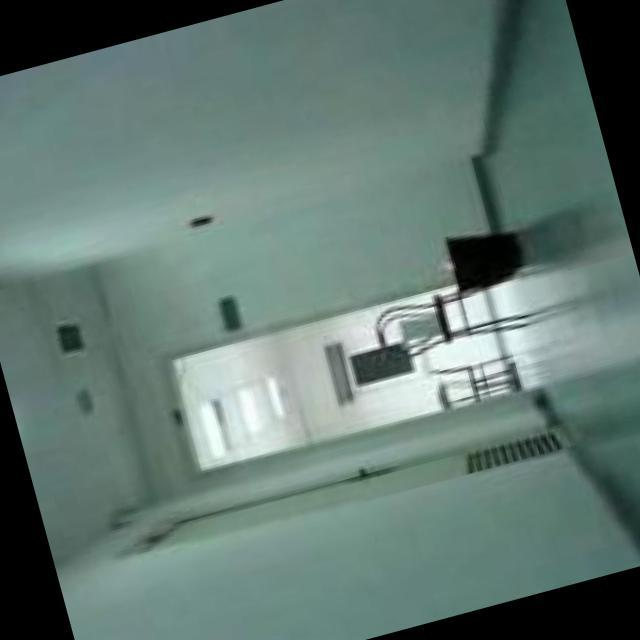Fire: (436, 250, 457, 273)
